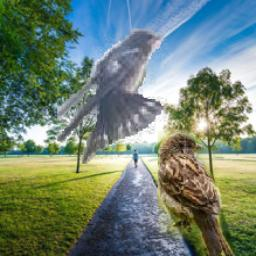Sparrow: (157, 131, 235, 256)
Swallow: (57, 28, 167, 165)
